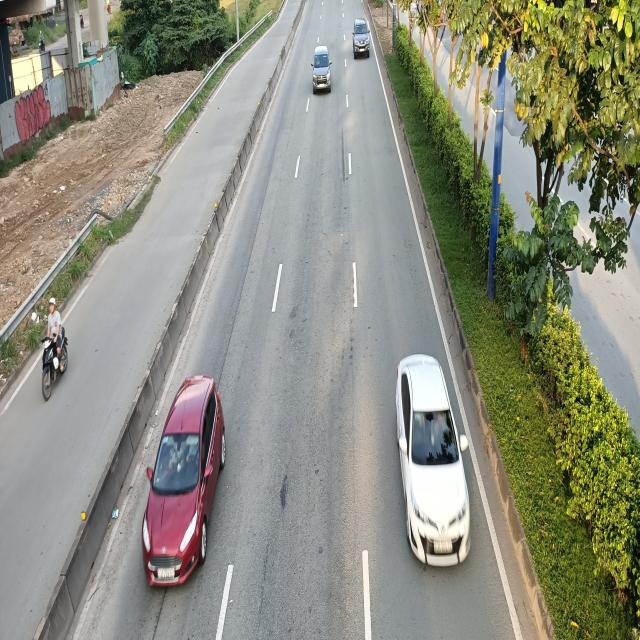car: (141, 371, 223, 585), (393, 350, 471, 564), (312, 47, 332, 94), (351, 17, 370, 56)
